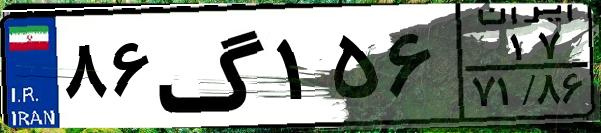1: (270, 28, 330, 110), (508, 27, 537, 80), (495, 70, 520, 125)
5: (330, 28, 385, 110)
6: (385, 28, 445, 110), (110, 28, 156, 98), (560, 70, 590, 125)
7: (537, 27, 568, 80), (470, 70, 495, 125)
8: (57, 26, 110, 100), (535, 70, 560, 125)
گ: (156, 12, 270, 120)
